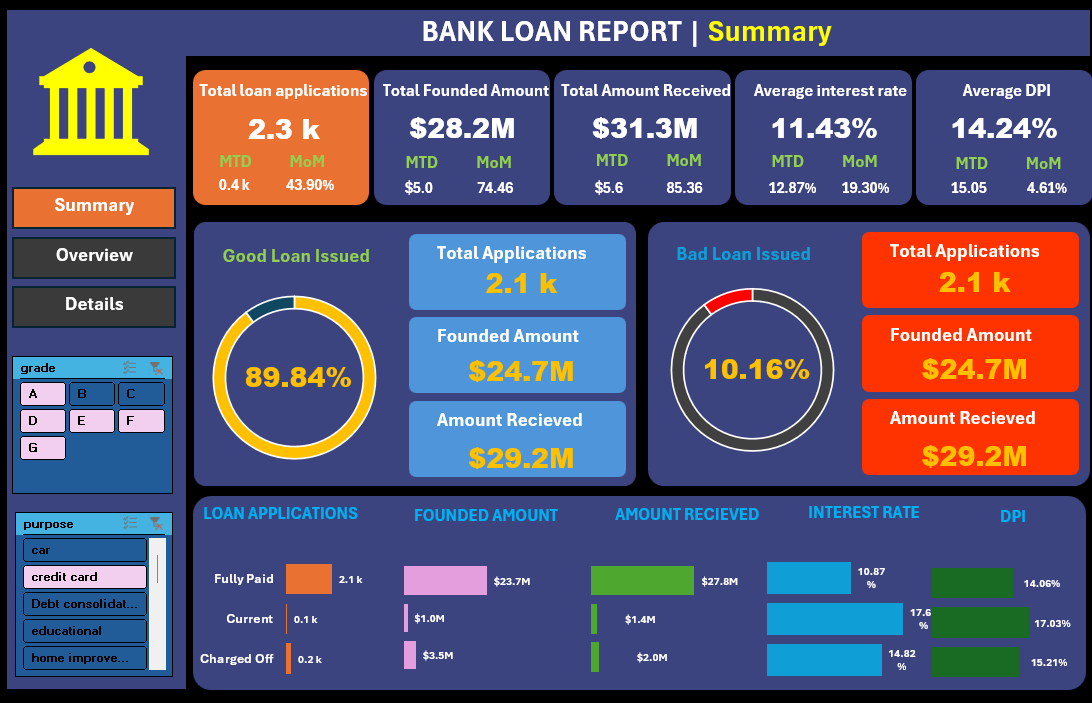

The dashboard page shown, as its layout file describes it:
{"tool":"powerbi","page":{"name":"Summary","canvas":[1280,720],"ordinal":0},"visuals":[{"type":"shape","box":[0,0,1280,70],"z":0},{"type":"shape","box":[194.3,80.5,194.3,117.2],"z":0,"group":"g4"},{"type":"shape","box":[408.3,81.1,194.3,117.2],"z":0,"group":"g1"},{"type":"shape","box":[623.8,81.1,194.3,117.2],"z":0,"group":"g2"},{"type":"shape","box":[837.2,81.1,194.3,117.2],"z":0,"group":"g5"},{"type":"shape","box":[1063.8,81.1,194.3,117.2],"z":0,"group":"g3"},{"type":"shape","box":[0,70,185,650],"z":1000},{"type":"cardVisual","fields":{"Data":["Loan Mesures.Total Loan Amount"]},"box":[397.8,89.1,227,79],"z":1000,"group":"g1"},{"type":"cardVisual","fields":{"Data":["Loan Mesures.Total Amount Received"]},"box":[613.3,89.1,227,79],"z":1000,"group":"g2"},{"type":"cardVisual","fields":{"Data":["Loan Mesures.Avg Interest Rate"]},"box":[826.7,89.1,227,79],"z":1000,"group":"g5"},{"type":"cardVisual","fields":{"Data":["Loan Mesures.Avg DTI"]},"box":[1053.3,89.1,227,79],"z":1000,"group":"g3"},{"type":"cardVisual","title":"MoM","fields":{"Data":["Loan Mesures.MoM Loan Applications"]},"box":[304,151,84,46],"z":1000,"group":"g4"},{"type":"textbox","box":[185.7,0,598.6,65.7],"z":2000},{"type":"textbox","box":[397.8,82.4,205,28.8],"z":2000,"group":"g1"},{"type":"textbox","box":[613.3,82.4,205,28.8],"z":2000,"group":"g2"},{"type":"textbox","box":[826.7,82.4,205,28.8],"z":2000,"group":"g5"},{"type":"textbox","box":[1053.3,82.4,205,28.8],"z":2000,"group":"g3"},{"type":"cardVisual","fields":{"Data":["bank_loan_data.Total Loan Applications"]},"box":[195,86.8,193.5,80],"z":2000,"group":"g4"},{"type":"textbox","box":[183.8,81.8,205,28.8],"z":3000,"group":"g4"},{"type":"cardVisual","title":"MTD","fields":{"Data":["Loan Mesures.MTD Founded Amount"]},"box":[408.6,153.6,83.3,45],"z":3000,"group":"g1"},{"type":"cardVisual","title":"MTD","fields":{"Data":["Loan Mesures.MTD Amount Received"]},"box":[624.1,153.6,83.3,45],"z":3000,"group":"g2"},{"type":"cardVisual","title":"MTD","fields":{"Data":["Loan Mesures.MTD Avg Interest Rate"]},"box":[837.5,153.6,83.3,45],"z":3000,"group":"g5"},{"type":"cardVisual","title":"MTD","fields":{"Data":["Loan Mesures.MTD Avg DTI"]},"box":[1064.1,153.6,83.3,45],"z":3000,"group":"g3"},{"type":"shape","box":[196.2,216.2,511.2,246.2],"z":3000},{"type":"textbox","box":[847.1,11.4,291.4,47.1],"z":4000},{"type":"cardVisual","title":"MoM","fields":{"Data":["Loan Mesures.MoM Founded Amount"]},"box":[518.8,152.1,84,46],"z":4000,"group":"g1"},{"type":"cardVisual","title":"MoM","fields":{"Data":["Loan Mesures.MoM Amount Received"]},"box":[734.3,152.1,84,46],"z":4000,"group":"g2"},{"type":"cardVisual","title":"MoM","fields":{"Data":["Loan Mesures.MoM Avg Interest Rate"]},"box":[947.7,152.1,84,46],"z":4000,"group":"g5"},{"type":"cardVisual","title":"MoM","fields":{"Data":["Loan Mesures.MoM Avg DTI"]},"box":[1174.3,152.1,84,46],"z":4000,"group":"g3"},{"type":"cardVisual","title":"MTD","fields":{"Data":["Loan Mesures.MTD Loan Applications"]},"box":[194,152.4,84.2,45.8],"z":4000,"group":"g4"},{"type":"textbox","box":[225,230,205,28.8],"z":5000},{"type":"group","id":"g1","title":"Group 2","box":[397.8,81.1,227,117.5],"z":6000},{"type":"group","id":"g2","title":"Group 2","box":[613.3,81.1,227.8,117.8],"z":7000},{"type":"group","id":"g3","title":"Group 2","box":[1053.3,81.1,226.7,118.9],"z":8000},{"type":"group","id":"g4","title":"Group 1","box":[183.8,80.5,205,117.7],"z":9000},{"type":"group","id":"g5","title":"Group 2","box":[826.7,81.1,226.7,118.9],"z":10000},{"type":"shape","box":[728.8,216.2,528.8,246.2],"z":11000},{"type":"donutChart","fields":{"Category":["bank_loan_data.good vs bad loan"],"Y":["Loan Mesures.Total Loan Applications"]},"box":[202.5,250,250,220],"z":12000},{"type":"cardVisual","fields":{"Data":["Loan Mesures.Good Loan %"]},"box":[236.2,315,193.8,80],"z":13000},{"type":"cardVisual","fields":{"Data":["Loan Mesures.Good Loan Total Applications","Loan Mesures.Good Loan Amount Received","Loan Mesures.Good Loan Founded Amount"]},"box":[430,230,276.2,240],"z":14000},{"type":"textbox","box":[744.3,232.6,205,28.8],"z":15000},{"type":"donutChart","fields":{"Category":["bank_loan_data.good vs bad loan"],"Y":["Loan Mesures.Total Loan Applications"]},"box":[721.2,247.5,250,220],"z":16000},{"type":"cardVisual","fields":{"Data":["Loan Mesures.Bad Loan Total Applications","Loan Mesures.Bad Loan Founded Amount","Loan Mesures.Bad Loan Amount Received"]},"box":[960,222.7,276.2,240],"z":17000},{"type":"cardVisual","fields":{"Data":["Loan Mesures.Bad Loan %"]},"box":[743.8,315,193.8,80],"z":18000},{"type":"shape","box":[203.8,470,1052.5,238.8],"z":19000},{"type":"tableEx","fields":{"Values":["bank_loan_data.loan_status","Loan Mesures.Total Loan Applications","Loan Mesures.Total Loan Founded Amount","Loan Mesures.Total Amount Received","Loan Mesures.MTD Founded Amount","Loan Mesures.MTD Amount Received","Loan Mesures.Avg Interest Rate","Loan Mesures.Avg DTI"]},"box":[213.8,500,1032.5,207.5],"z":20000},{"type":"textbox","box":[196.2,471.2,205,28.8],"z":21000},{"type":"slicer","fields":{"Values":["bank_loan_data.address_state"]},"box":[7.1,404.3,167.1,57.1],"z":22000},{"type":"textbox","box":[7.1,368.6,185.7,35.7],"z":23000},{"type":"slicer","fields":{"Values":["bank_loan_data.grade"]},"box":[10.5,513.3,167.1,57.1],"z":24000},{"type":"textbox","box":[10.5,477.6,185.7,35.7],"z":25000},{"type":"slicer","fields":{"Values":["bank_loan_data.purpose"]},"box":[9.5,626.7,167.1,57.1],"z":26000},{"type":"textbox","box":[9.5,591,185.7,35.7],"z":27000},{"type":"cardVisual","fields":{"Data":["Loan Mesures.Total Earned Amount"]},"box":[1098.6,0,171.4,61.4],"z":28000},{"type":"pageNavigator","box":[7.1,121.4,167.1,175.7],"z":29000}]}

Visuals, with their boxes on the page's 1280x720 design canvas (x1, y1, x2, y2). These are canvas units, not pixel positions in the 1092x703 screenshot, which may show the page scaled, cropped or inside an application window:
shape: l=0, t=0, r=1280, b=70
shape: l=194, t=80, r=389, b=198
shape: l=408, t=81, r=603, b=198
shape: l=624, t=81, r=818, b=198
shape: l=837, t=81, r=1032, b=198
shape: l=1064, t=81, r=1258, b=198
shape: l=0, t=70, r=185, b=720
cardVisual - Loan Mesures.Total Loan Amount: l=398, t=89, r=625, b=168
cardVisual - Loan Mesures.Total Amount Received: l=613, t=89, r=840, b=168
cardVisual - Loan Mesures.Avg Interest Rate: l=827, t=89, r=1054, b=168
cardVisual - Loan Mesures.Avg DTI: l=1053, t=89, r=1280, b=168
"MoM" cardVisual: l=304, t=151, r=388, b=197
textbox: l=186, t=0, r=784, b=66
textbox: l=398, t=82, r=603, b=111
textbox: l=613, t=82, r=818, b=111
textbox: l=827, t=82, r=1032, b=111
textbox: l=1053, t=82, r=1258, b=111
cardVisual - bank_loan_data.Total Loan Applications: l=195, t=87, r=388, b=167
textbox: l=184, t=82, r=389, b=111
"MTD" cardVisual: l=409, t=154, r=492, b=199
"MTD" cardVisual: l=624, t=154, r=707, b=199
"MTD" cardVisual: l=838, t=154, r=921, b=199
"MTD" cardVisual: l=1064, t=154, r=1147, b=199
shape: l=196, t=216, r=707, b=462
textbox: l=847, t=11, r=1138, b=58
"MoM" cardVisual: l=519, t=152, r=603, b=198
"MoM" cardVisual: l=734, t=152, r=818, b=198
"MoM" cardVisual: l=948, t=152, r=1032, b=198
"MoM" cardVisual: l=1174, t=152, r=1258, b=198
"MTD" cardVisual: l=194, t=152, r=278, b=198
textbox: l=225, t=230, r=430, b=259
"Group 2" group: l=398, t=81, r=625, b=199
"Group 2" group: l=613, t=81, r=841, b=199
"Group 2" group: l=1053, t=81, r=1280, b=200
"Group 1" group: l=184, t=80, r=389, b=198
"Group 2" group: l=827, t=81, r=1053, b=200
shape: l=729, t=216, r=1258, b=462
donutChart - bank_loan_data.good vs bad loan x Loan Mesures.Total Loan Applications: l=202, t=250, r=452, b=470
cardVisual - Loan Mesures.Good Loan %: l=236, t=315, r=430, b=395
cardVisual - Loan Mesures.Good Loan Total Applications x Loan Mesures.Good Loan Amount Received: l=430, t=230, r=706, b=470
textbox: l=744, t=233, r=949, b=261
donutChart - bank_loan_data.good vs bad loan x Loan Mesures.Total Loan Applications: l=721, t=248, r=971, b=468
cardVisual - Loan Mesures.Bad Loan Total Applications x Loan Mesures.Bad Loan Founded Amount: l=960, t=223, r=1236, b=463
cardVisual - Loan Mesures.Bad Loan %: l=744, t=315, r=938, b=395
shape: l=204, t=470, r=1256, b=709
tableEx - bank_loan_data.loan_status x Loan Mesures.Total Loan Applications: l=214, t=500, r=1246, b=708
textbox: l=196, t=471, r=401, b=500
slicer - bank_loan_data.address_state: l=7, t=404, r=174, b=461
textbox: l=7, t=369, r=193, b=404
slicer - bank_loan_data.grade: l=10, t=513, r=178, b=570
textbox: l=10, t=478, r=196, b=513
slicer - bank_loan_data.purpose: l=10, t=627, r=177, b=684
textbox: l=10, t=591, r=195, b=627
cardVisual - Loan Mesures.Total Earned Amount: l=1099, t=0, r=1270, b=61
pageNavigator: l=7, t=121, r=174, b=297
